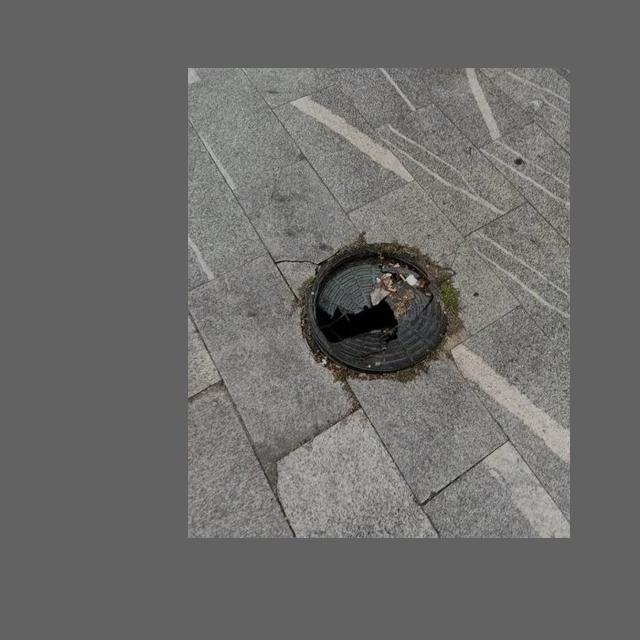broke: (276, 232, 471, 392)
